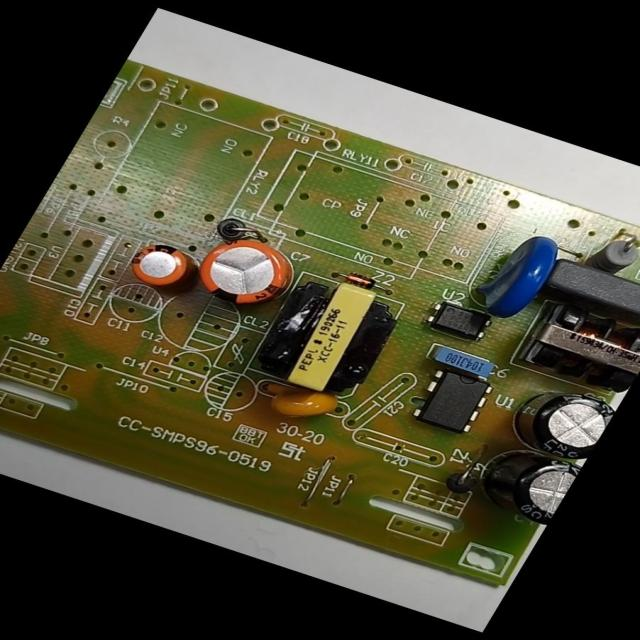Cap1: (178, 220, 314, 322)
Cap2: (110, 233, 209, 304)
Cap3: (486, 369, 621, 474)
Cap4: (444, 426, 586, 534)
MOSFET: (399, 357, 504, 442)
Mov: (453, 219, 575, 332)
Resistor: (574, 224, 640, 286)
Transformer: (238, 264, 414, 409), (510, 293, 640, 401)
